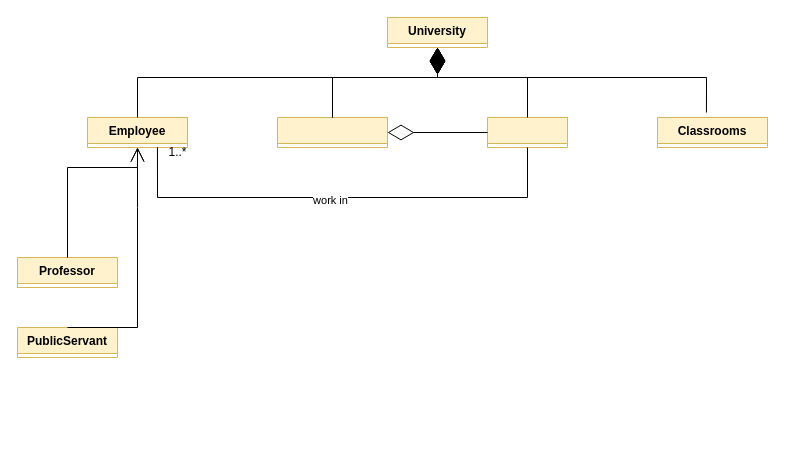
This 785x463 diagram has some shape labels left out. The shapes that lost their labels are listed below. From the top down, each one's box as (x1, y1, x2, y2) in pixels, then its label:
(276, 116, 388, 148): Department
(486, 116, 568, 148): WorkOffice
